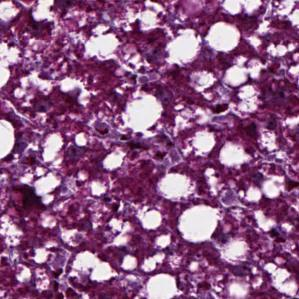steatosis: (177, 207, 224, 243), (119, 95, 163, 132)
